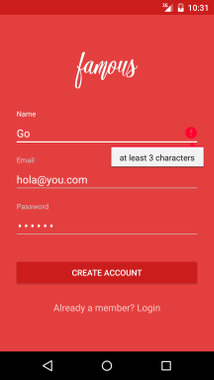_form_: (1, 11, 214, 380)
field: (15, 125, 198, 145)
field_line: (15, 262, 199, 285), (13, 216, 198, 235), (13, 172, 198, 189)
field_line_with_label: (13, 110, 199, 147), (11, 202, 201, 236), (12, 156, 200, 190)
